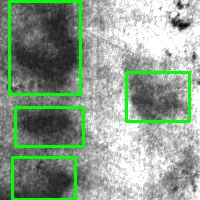patches: (9, 1, 80, 94), (126, 72, 189, 121), (15, 107, 83, 146), (12, 157, 75, 199)
